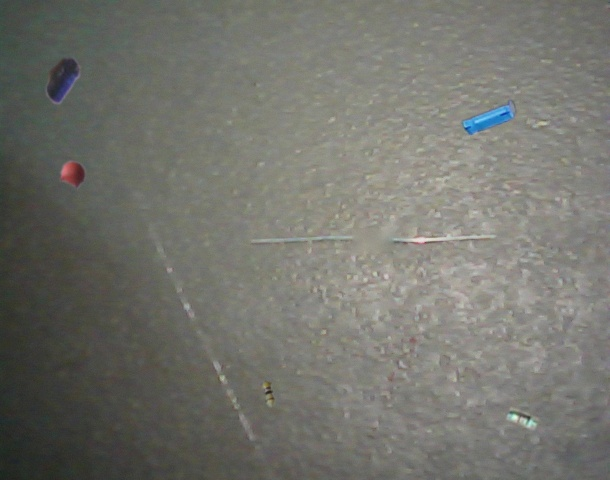capacitor: (462, 100, 516, 135), (46, 57, 80, 103), (60, 161, 86, 189)
resistor: (506, 408, 539, 430), (262, 380, 275, 407)
